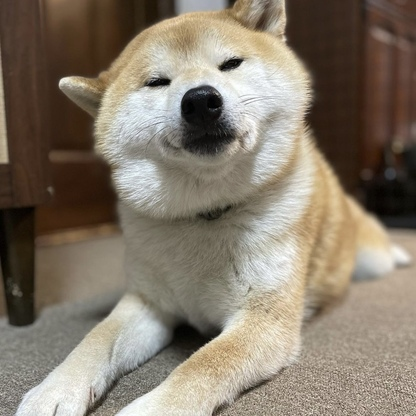shiba: (7, 1, 416, 416)
